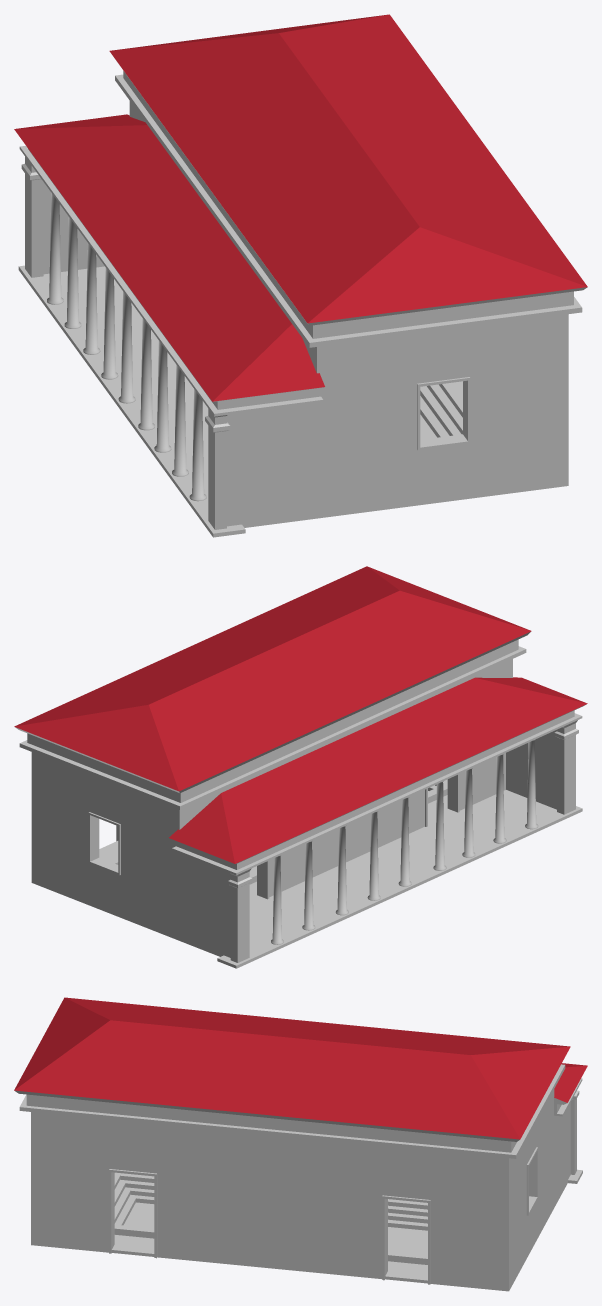
3 views of the same model, one above another, from view 1: azimuth 30°, elevation 25°; view 2: azimuth 150°, elevation 25°; view 3: azimuth 270°, elevation 25° (orthographic). The views are drawn at different scales.
Visible parts, largest first — view 1: Plane_028, Plane_029, Plane_027, Cube_051, Cube_028, Cube_029, Circle_002_Circle_016, Circle_002_Circle_015, Circle_002_Circle_020, Circle_002_Circle_019, Circle_002_Circle_018, Circle_002_Circle_017 (+3 smaller); view 2: Plane_028, Plane_029, Plane_027, Cube_051, Cube_029, Cube_028, Circle_002_Circle_014, Circle_002_Circle_015, Circle_002_Circle_016, Circle_002_Circle_019, Circle_002_Circle_017, Circle_002_Circle_020 (+3 smaller); view 3: Plane_029, Plane_028, Cube_051, Plane_027, Cube_029.
Part boxes in pixels (bbox=[...]): Plane_028: bbox=[109, 14, 587, 347]; Plane_029: bbox=[43, 101, 568, 527]; Plane_027: bbox=[14, 114, 324, 416]; Cube_051: bbox=[18, 265, 462, 537]; Cube_028: bbox=[205, 409, 230, 529]; Cube_029: bbox=[21, 157, 43, 277]; Circle_002_Circle_016: bbox=[154, 340, 171, 452]; Circle_002_Circle_015: bbox=[138, 318, 154, 430]; Circle_002_Circle_020: bbox=[83, 243, 100, 354]; Circle_002_Circle_019: bbox=[64, 217, 81, 328]; Circle_002_Circle_018: bbox=[101, 268, 118, 379]; Circle_002_Circle_017: bbox=[118, 291, 135, 403]; Plane_028: bbox=[14, 566, 531, 809]; Plane_029: bbox=[31, 659, 556, 957]; Plane_027: bbox=[169, 677, 587, 875]; Cube_051: bbox=[99, 779, 582, 968]; Cube_029: bbox=[228, 868, 252, 962]; Cube_028: bbox=[554, 720, 578, 814]; Circle_002_Circle_014: bbox=[493, 754, 506, 843]; Circle_002_Circle_015: bbox=[433, 781, 446, 870]; Circle_002_Circle_016: bbox=[462, 768, 475, 857]; Circle_002_Circle_019: bbox=[302, 840, 315, 930]; Circle_002_Circle_017: bbox=[398, 797, 411, 886]; Circle_002_Circle_020: bbox=[335, 825, 348, 915]; Plane_029: bbox=[31, 1089, 570, 1291]; Plane_028: bbox=[14, 997, 570, 1158]; Cube_051: bbox=[111, 1169, 582, 1283]; Plane_027: bbox=[554, 1063, 587, 1116]; Cube_029: bbox=[570, 1090, 579, 1174].
Bounding box in the file's own units: 51.8 × 27.17 × 72.35.
